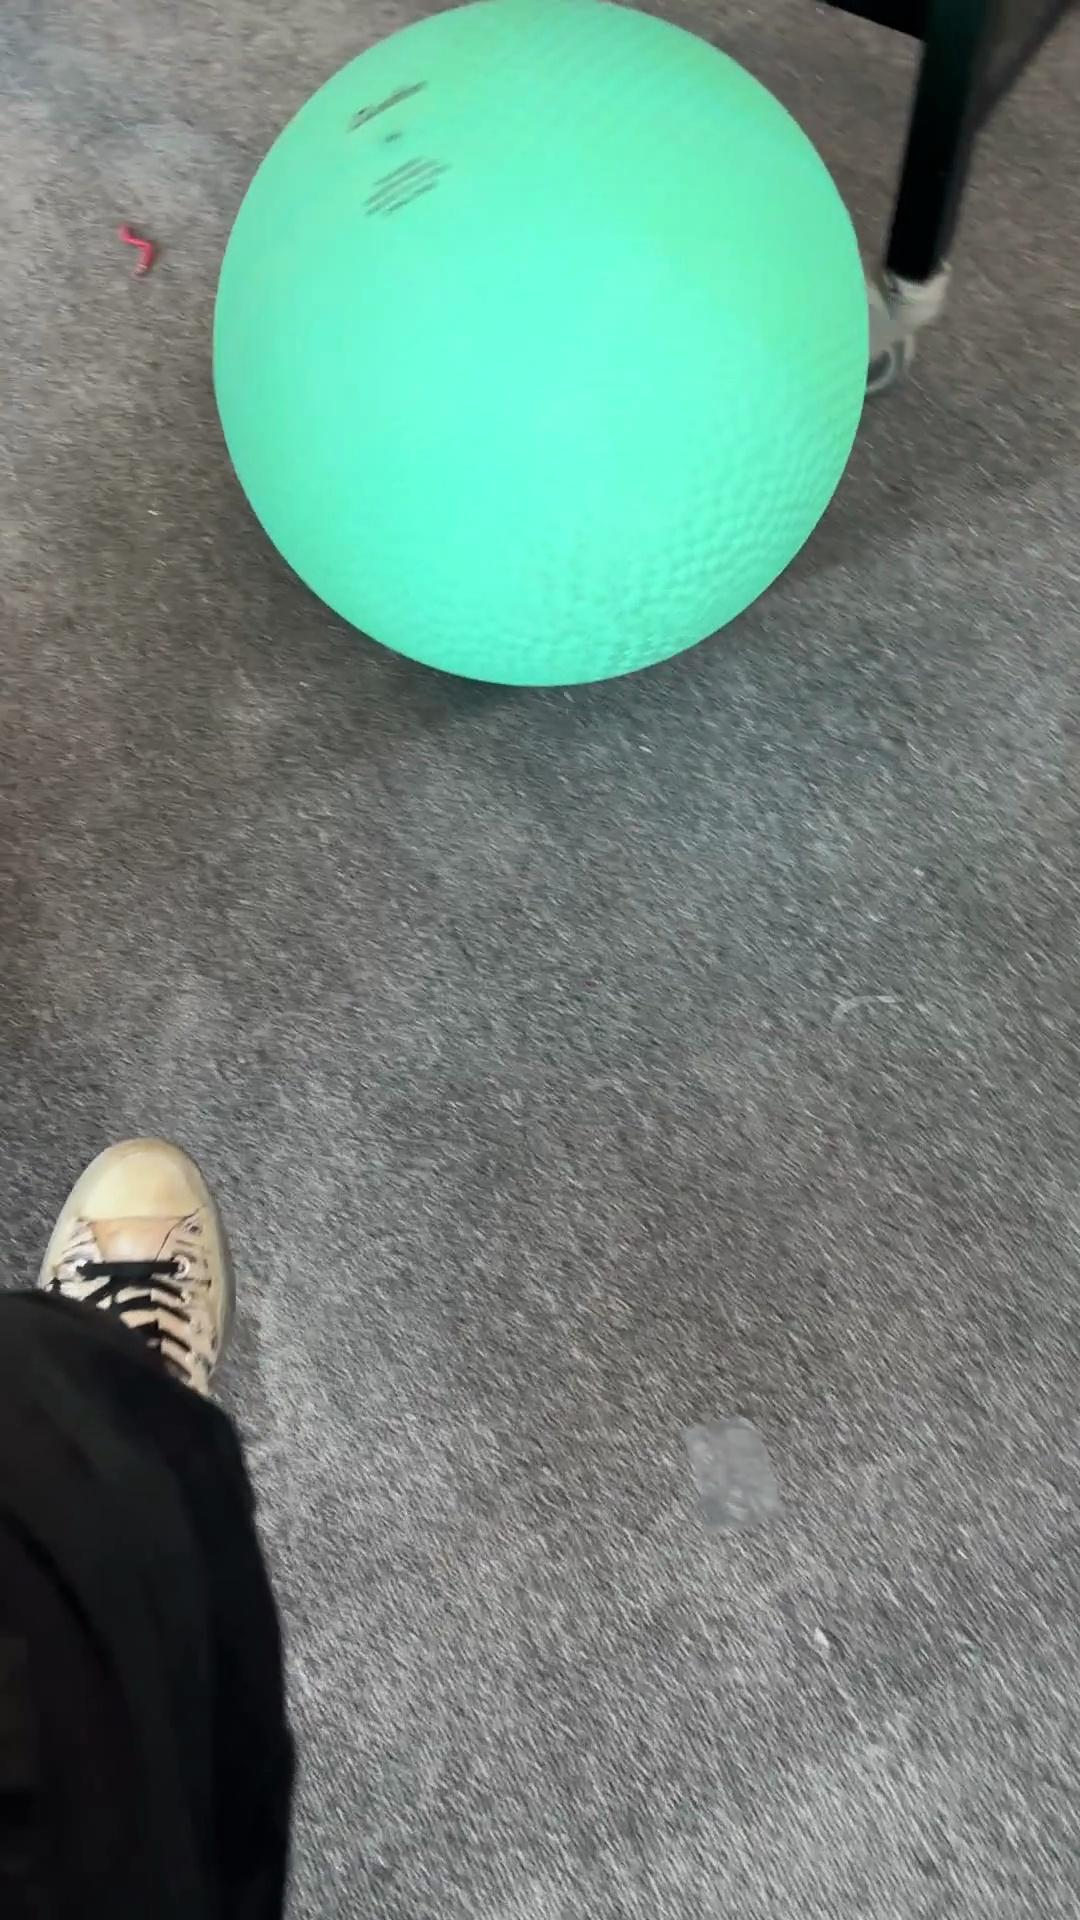ALGAE: (208, 1, 872, 688)
